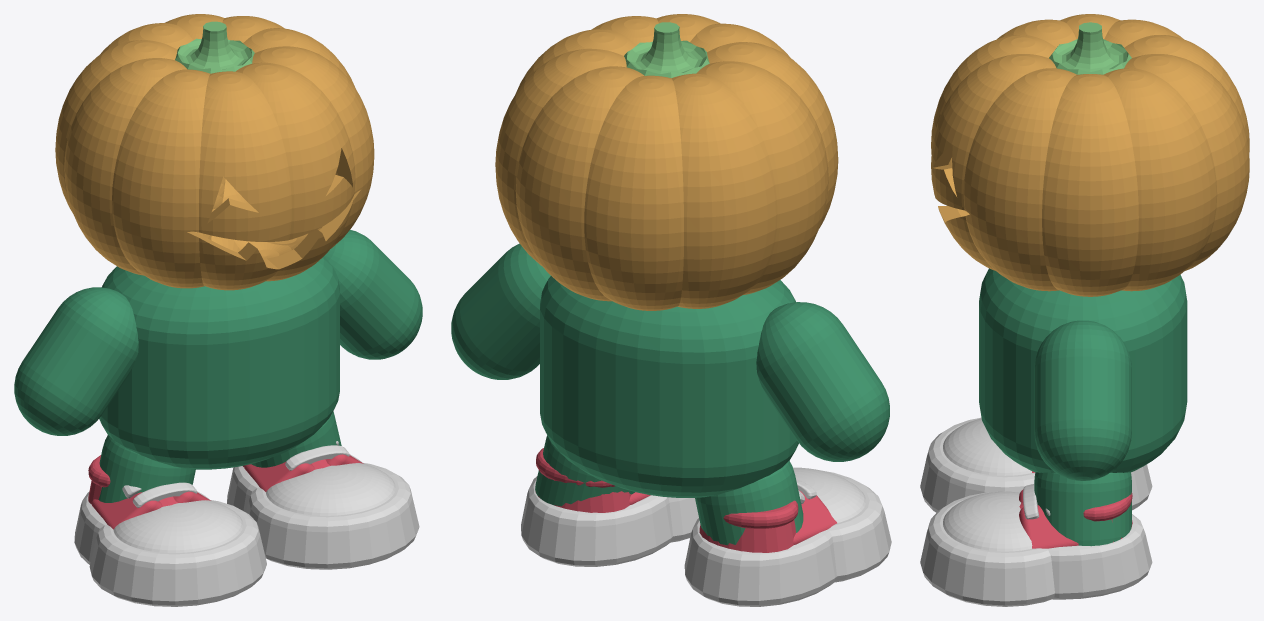
Rendered from asset.glb.
The picture shows the model from 3 angles, left to right: view 1: azimuth 30°, elevation 25°; view 2: azimuth 150°, elevation 25°; view 3: azimuth 270°, elevation 25°; orthographic projection. The views are drawn at different scales.
Visible parts, largest first — view 1: Mesh_Mesh_head_geo.001_lambert2SG.001; view 2: Mesh_Mesh_head_geo.001_lambert2SG.001; view 3: Mesh_Mesh_head_geo.001_lambert2SG.001.
Part boxes in pixels (box(x1,y1,x2,y2)): Mesh_Mesh_head_geo.001_lambert2SG.001: box(14, 14, 422, 606); Mesh_Mesh_head_geo.001_lambert2SG.001: box(451, 14, 891, 606); Mesh_Mesh_head_geo.001_lambert2SG.001: box(920, 14, 1249, 606).
Size of the model in its own units: 42.86 by 51.6 by 30.34.
